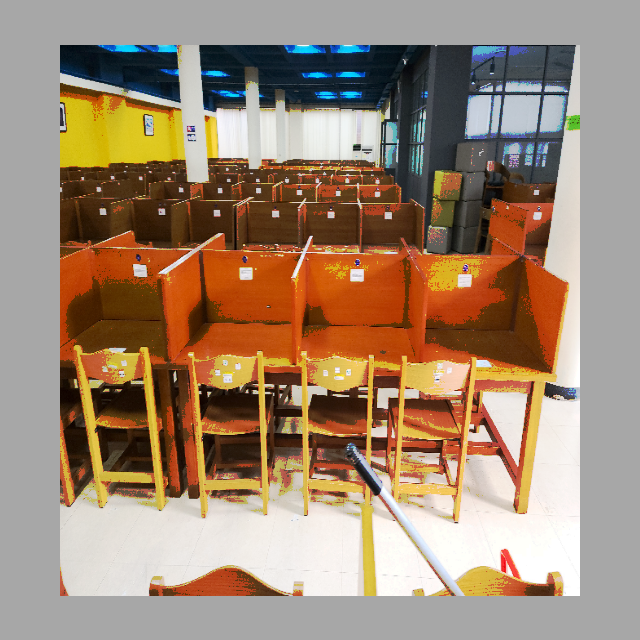empty: (433, 246, 569, 423), (169, 244, 293, 432), (297, 250, 425, 425)
